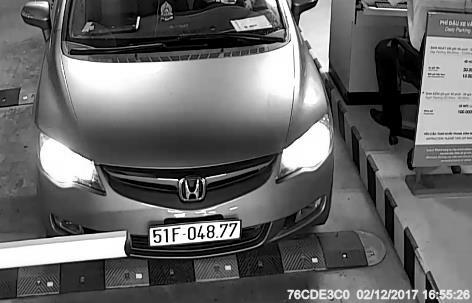License-plate: (142, 210, 249, 253)
